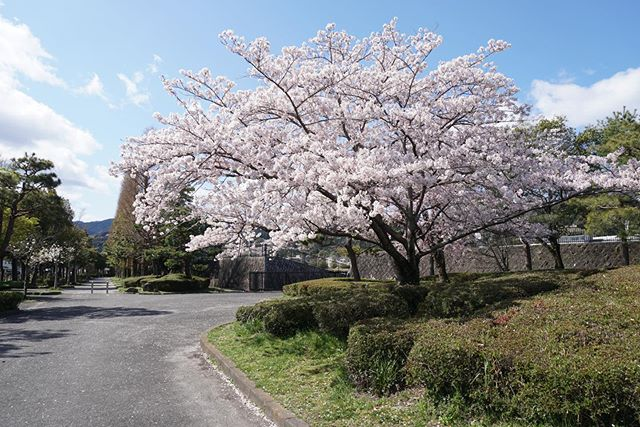sky: (7, 1, 640, 125)
street: (1, 286, 263, 427)
tree: (133, 54, 561, 302), (1, 158, 78, 303)
